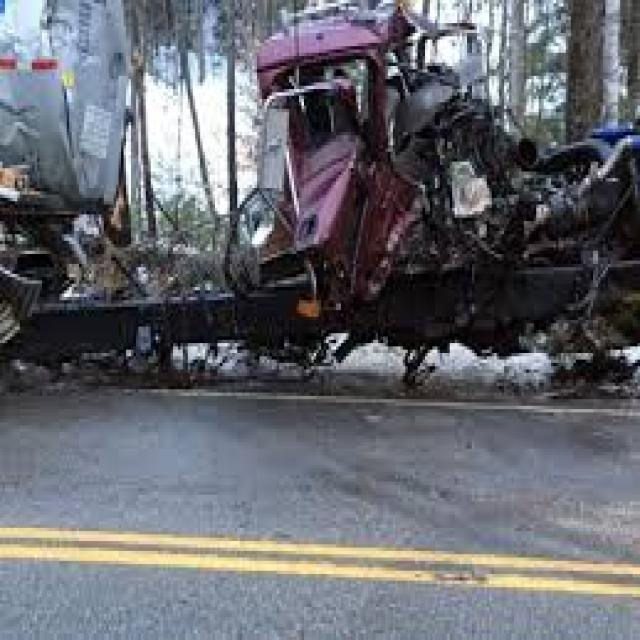accident: (3, 8, 640, 394)
